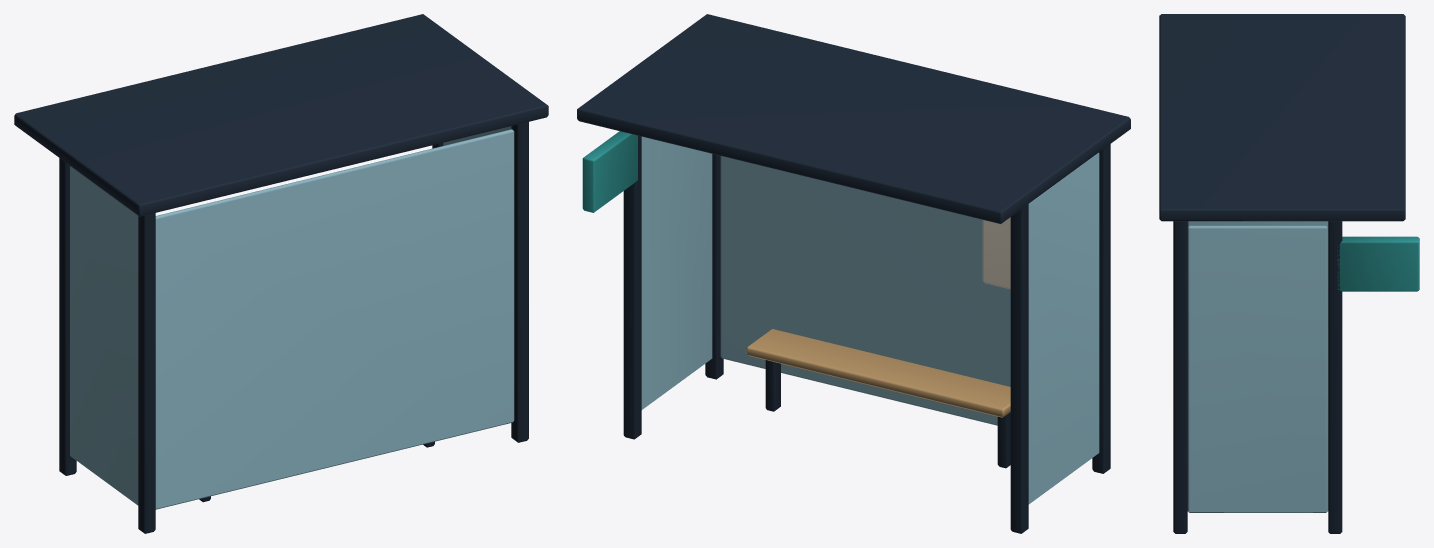
File: bus_shelter.glb
The picture shows the model from 3 angles, left to right: view 1: azimuth 30°, elevation 25°; view 2: azimuth 150°, elevation 25°; view 3: azimuth 270°, elevation 25°; orthographic projection. The views are drawn at different scales.
Visible parts, largest first — view 1: Body; view 2: Body; view 3: Body.
Boxes of the visible parts, x1,y1,x2,y2 form: Body: [14, 14, 548, 533]; Body: [577, 14, 1130, 533]; Body: [1159, 14, 1419, 533].
Bounding box in the file's own units: 3.3 × 2.6 × 1.85.
Materials: 1 (1 with a texture image).
